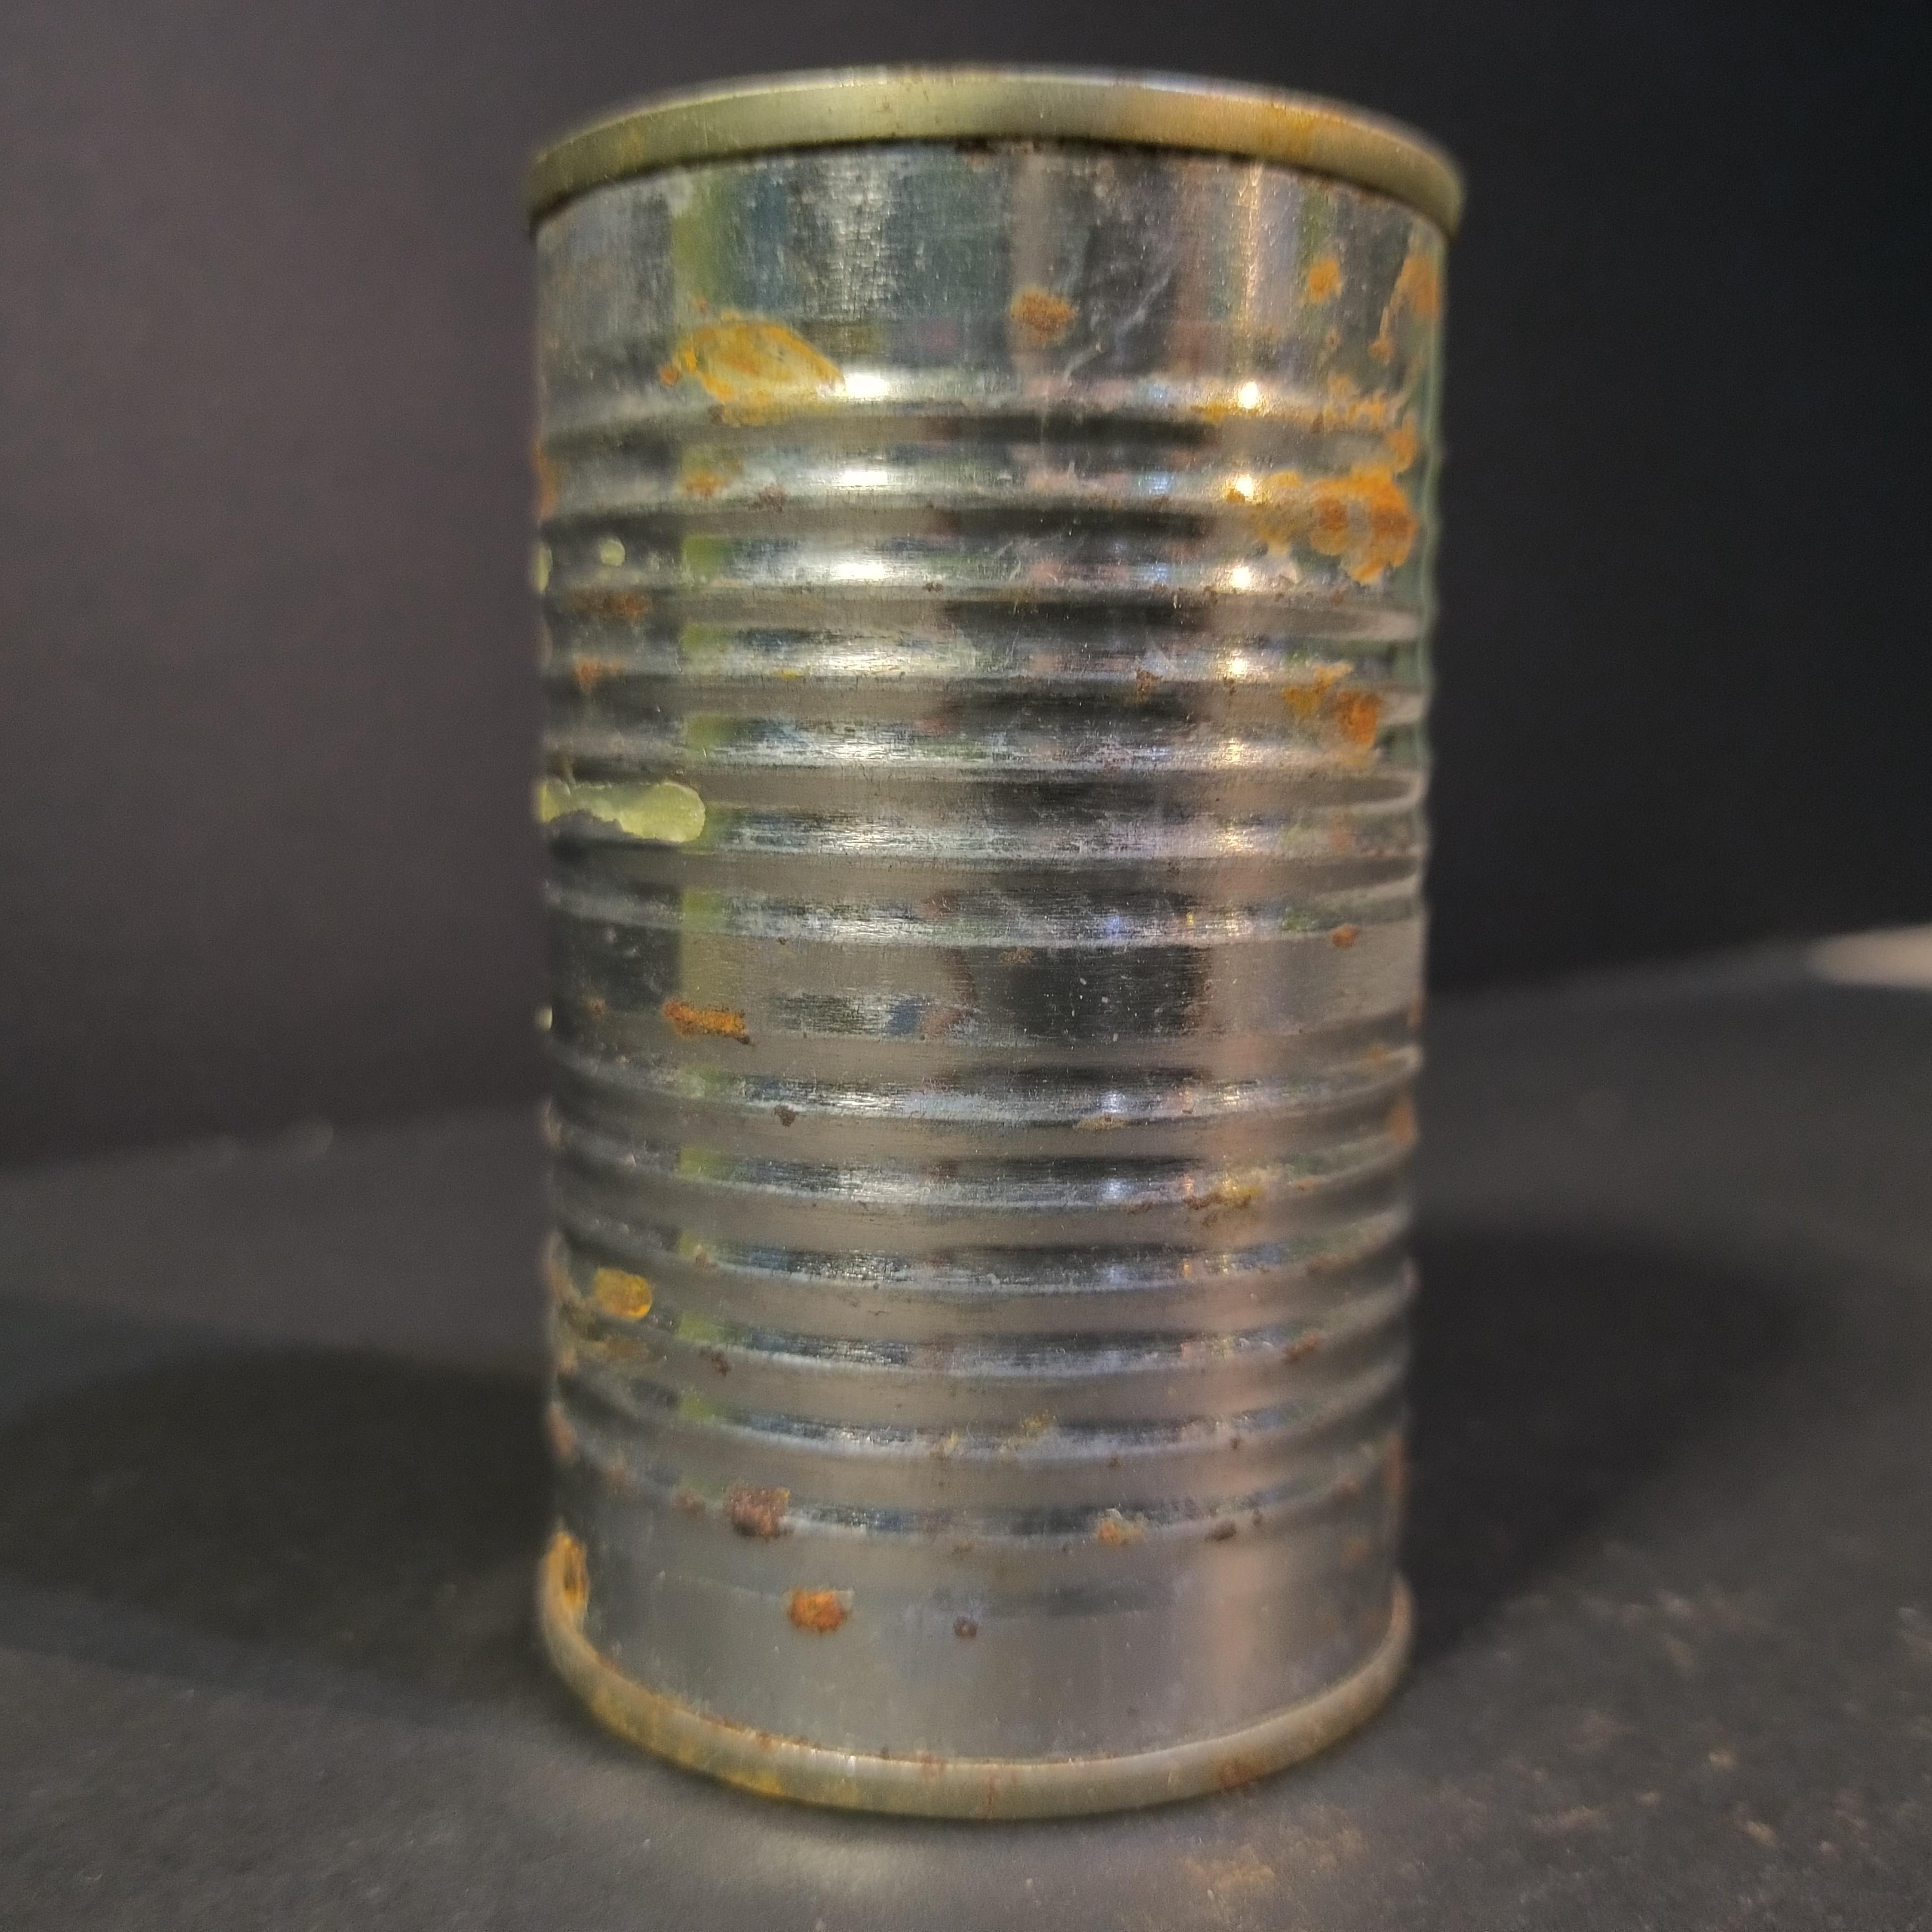Rusted: (487, 35, 1472, 1838)
